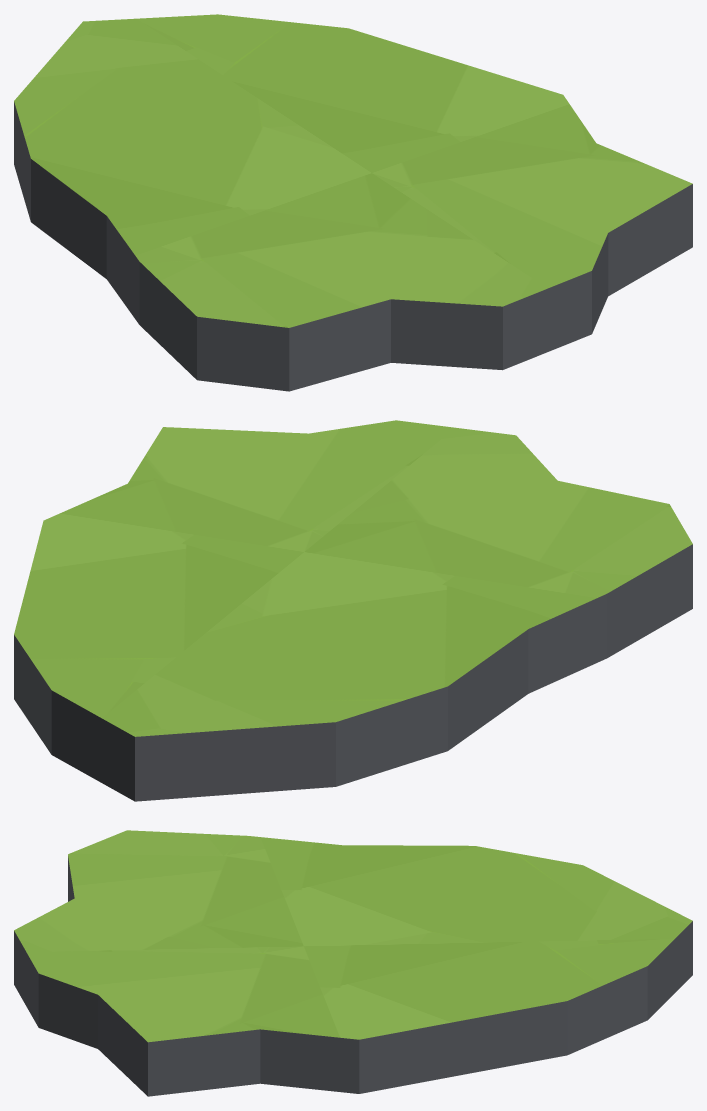
The picture shows the model from 3 angles, top to bottom: view 1: azimuth 30°, elevation 25°; view 2: azimuth 150°, elevation 25°; view 3: azimuth 270°, elevation 25°; orthographic projection. The views are drawn at different scales.
Visible parts, largest first — view 1: SF_03; view 2: SF_03; view 3: SF_03.
Part boxes in pixels (<box>): SF_03: <box>14,14,692,391</box>; SF_03: <box>14,420,692,801</box>; SF_03: <box>14,830,692,1096</box>.
Size of the model in its own units: 4.18 by 0.5 by 5.66.
